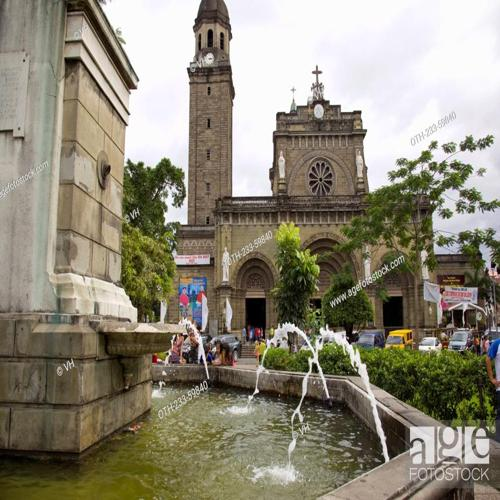Manila Cathedral Church: (145, 2, 464, 366)
